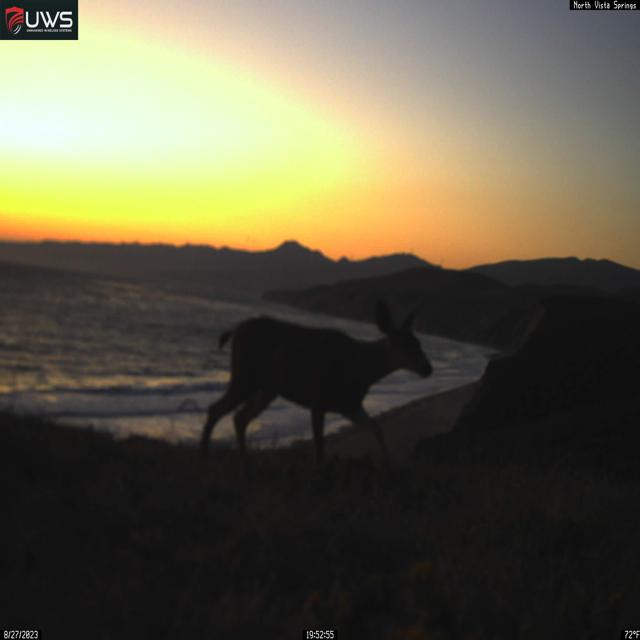deer: (198, 297, 434, 482)
